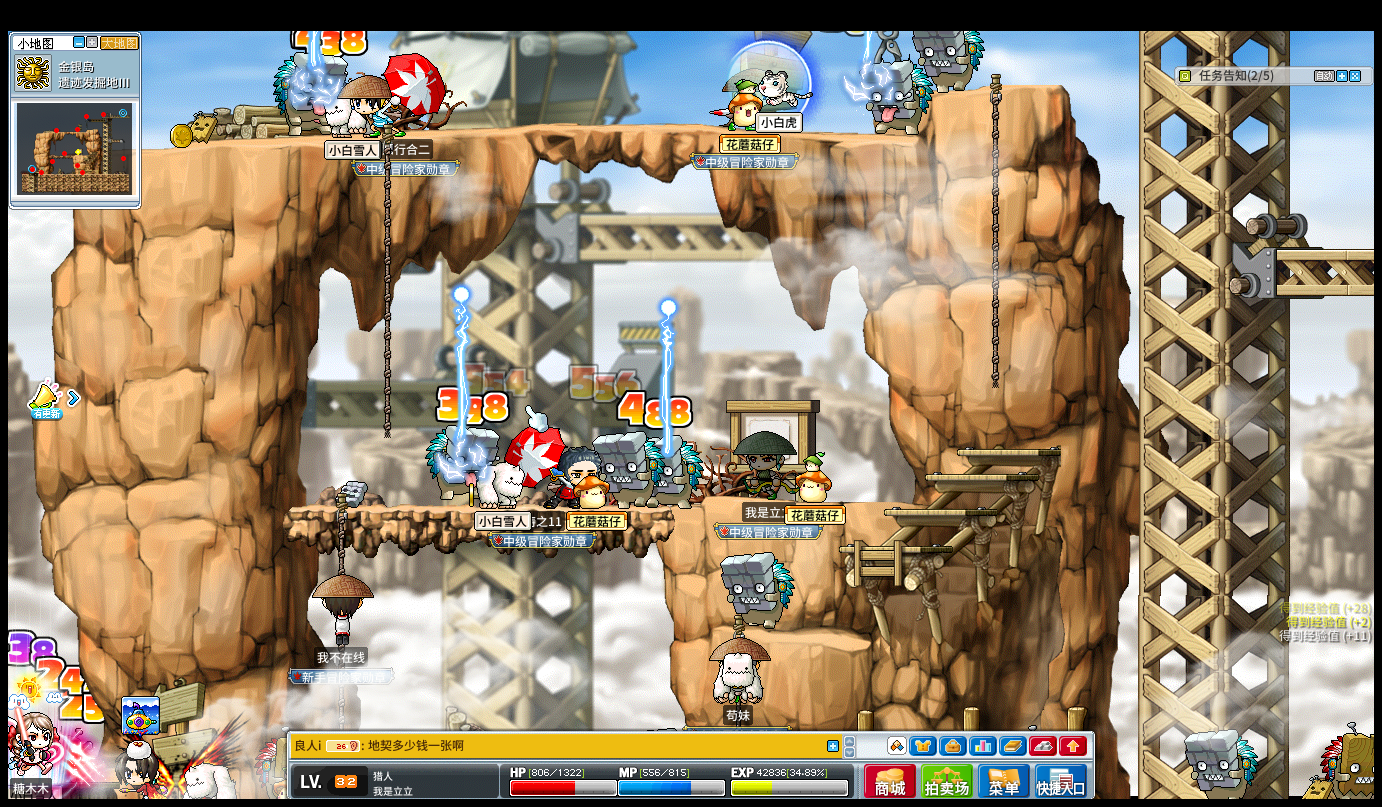floor: (135, 118, 965, 152), (287, 502, 662, 516), (277, 504, 675, 517), (762, 629, 871, 650), (932, 79, 1070, 93), (1268, 245, 1380, 261), (731, 498, 913, 507), (792, 498, 917, 508), (880, 506, 995, 516), (958, 446, 1060, 457), (921, 472, 1034, 481), (838, 544, 950, 553)
monster: (720, 553, 794, 631), (423, 427, 497, 505), (596, 431, 663, 509), (865, 59, 933, 135), (1186, 730, 1258, 794), (271, 50, 323, 131), (1320, 727, 1379, 792), (655, 437, 704, 510), (934, 27, 985, 91)
rope: (987, 71, 1002, 403), (380, 122, 392, 439), (989, 74, 1001, 293), (381, 193, 391, 440), (987, 274, 999, 388), (331, 492, 345, 574)
